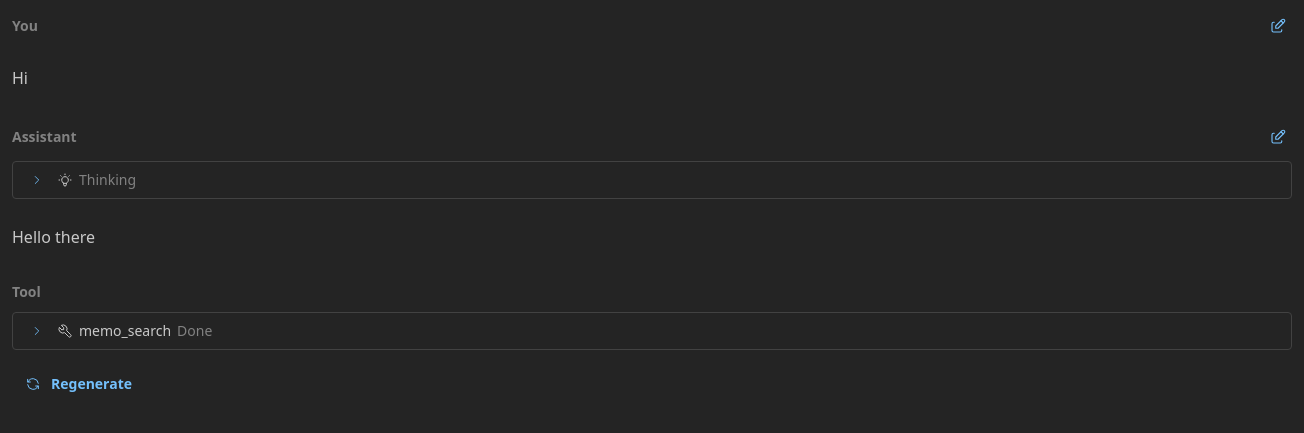
ZoneMessage — persisted blocks re-expand (US-114.AC-3) › pressing Show thinking on the assistant item reveals plan — DoD-3
Expected: the list item does not show "plan"
Step 1. Click the button named "Show thinking" → (37, 180), box [23,166,51,194]
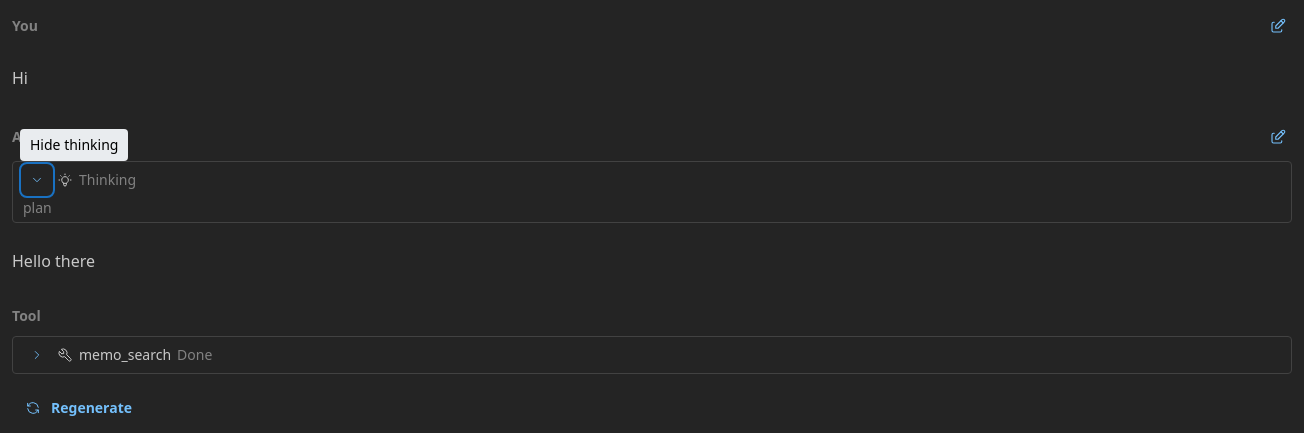
Now the list item "Assistant Thinking plan Hello there" is shown, box [12,123,1292,290]
